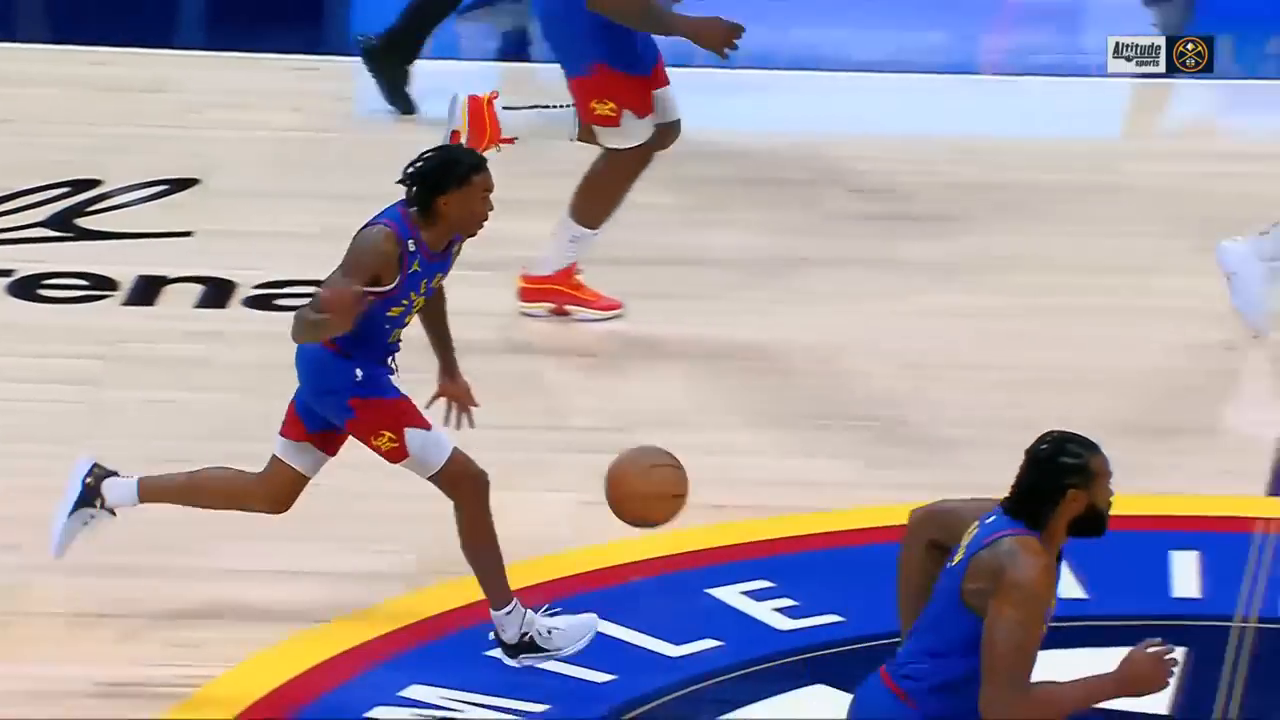ball: (600, 439, 692, 535)
